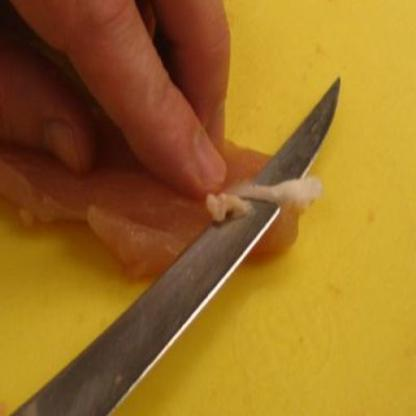knife: (0, 70, 344, 415)
